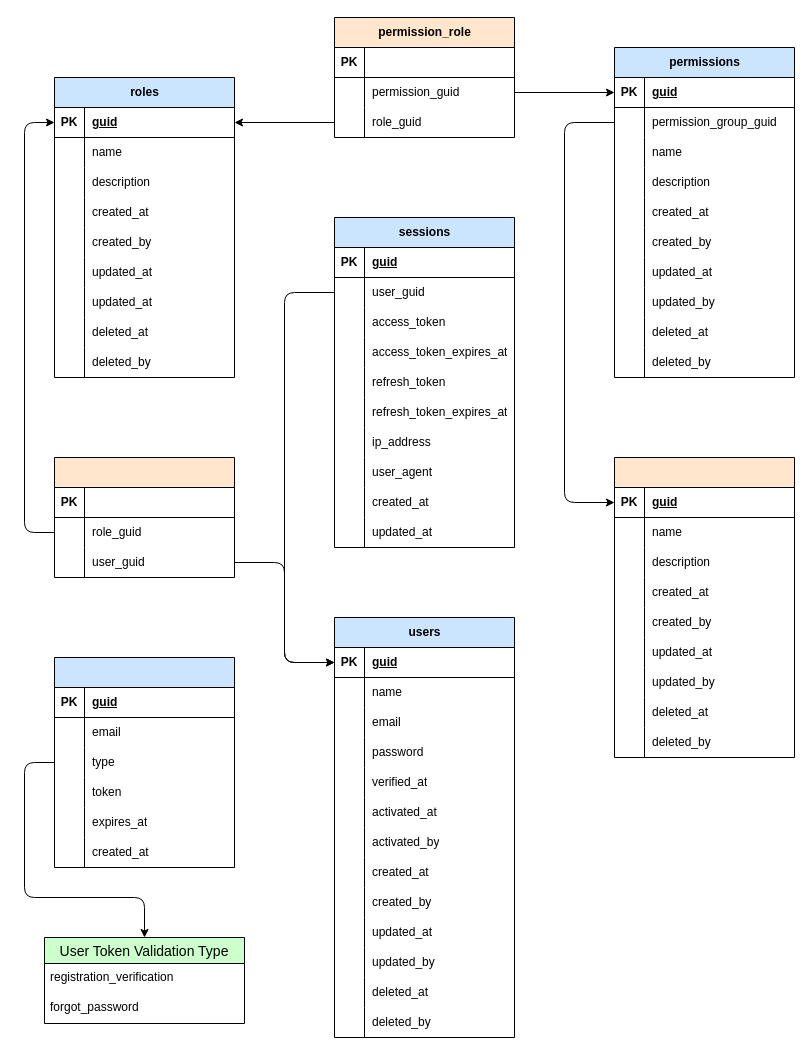
Some shapes in this 812 by 1055 pixel diagram are drawn without their labels. The shapes that lost their labels are listed below. From the top down, each one's box as (x1, y1, x2, y2) in pixels, then its label:
(54, 456, 234, 578): role_user
(614, 456, 794, 758): permission_groups
(54, 656, 234, 868): user_token_validations
